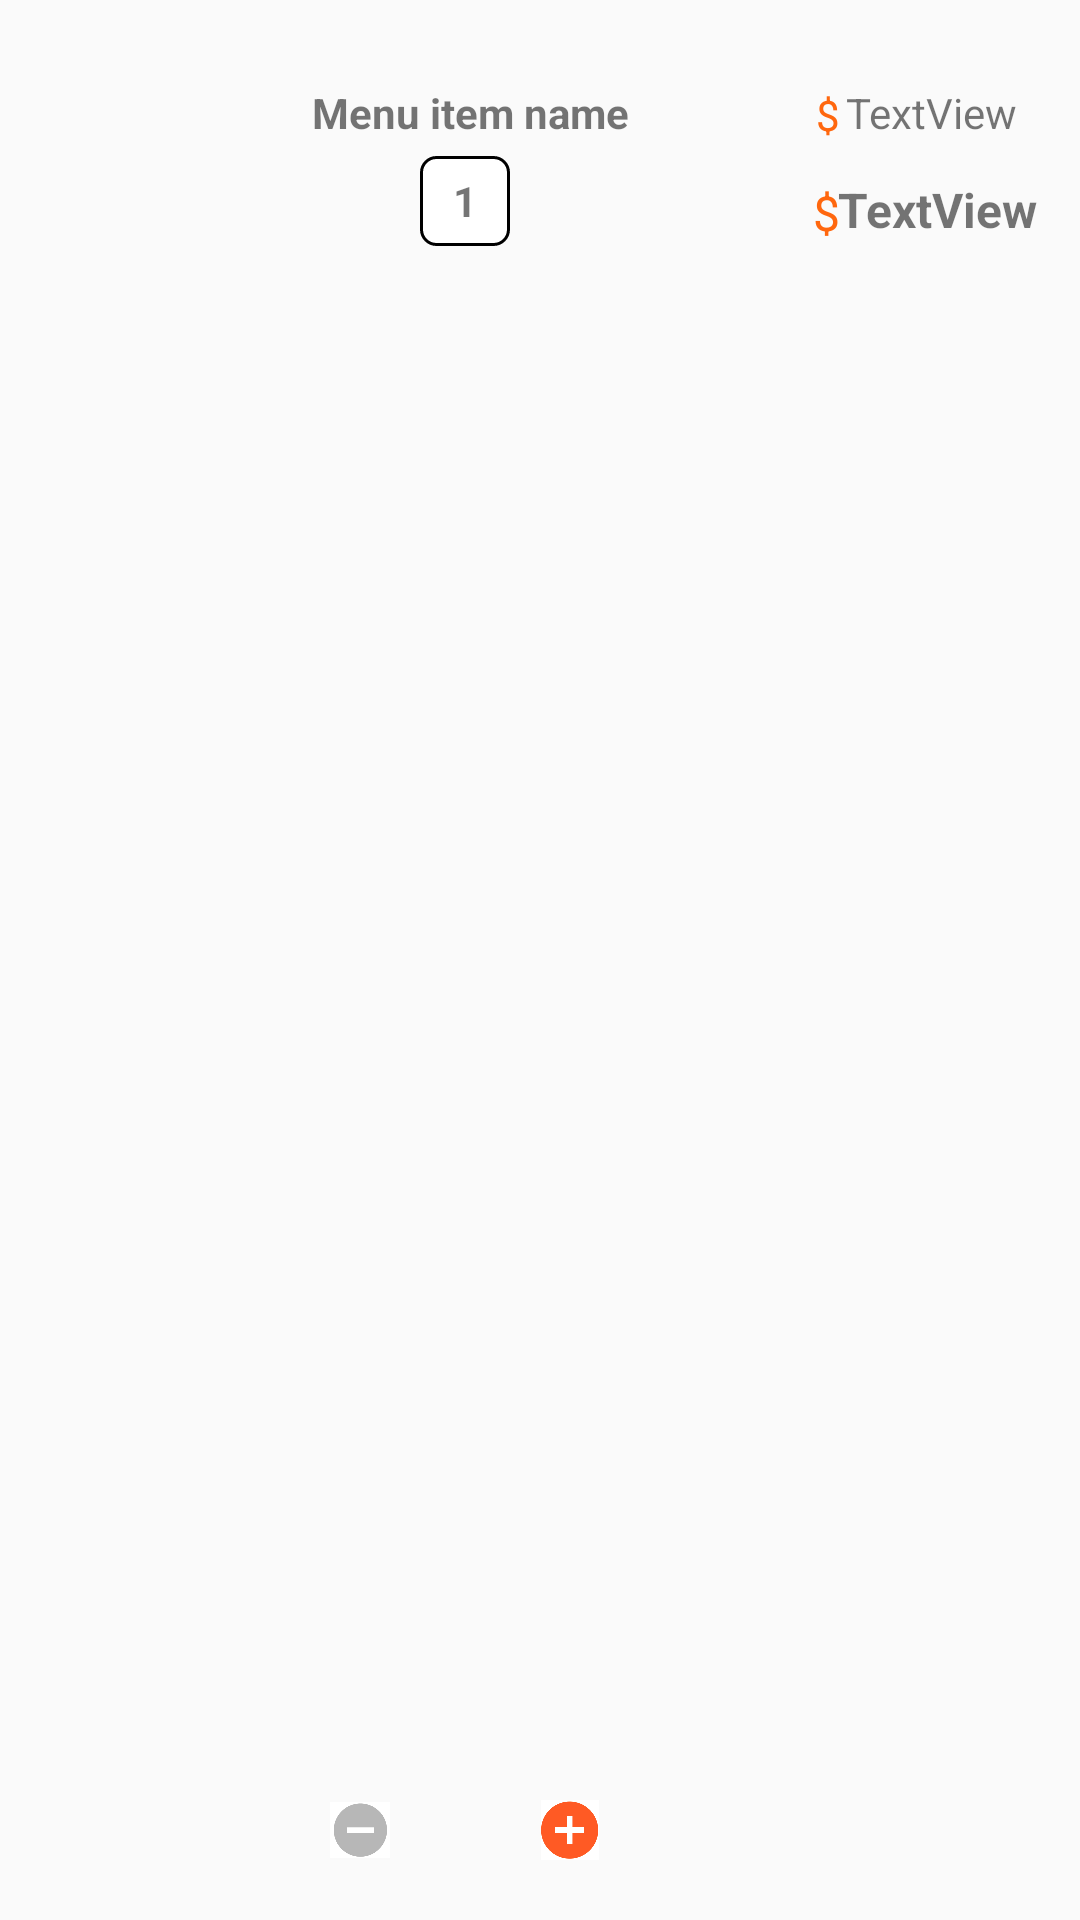

Named icons in this screenshot (1080px×1920px) and their bounding boxes, (x1, y1, x2, y2):
add to cart: (541, 1801, 598, 1859)
remove from cart: (334, 1803, 387, 1857)
